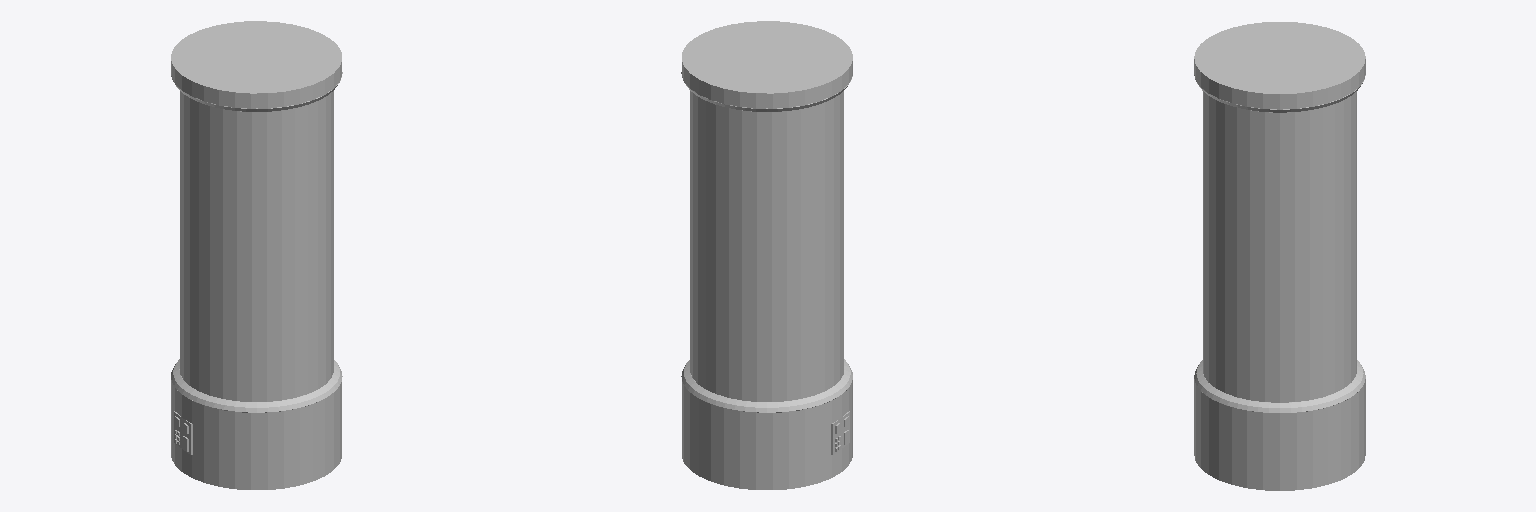
File: pillarBroken.obj
3 renders of one model, left to right at view 1: azimuth 30°, elevation 25°; view 2: azimuth 150°, elevation 25°; view 3: azimuth 270°, elevation 25°, orthographic.
Parts seen in each view (by area): view 1: Circle, Cylinder, Cylinder.002, Torus.001, Circle_cell.014, Circle_cell.055, Circle_cell.067, Circle_cell.089, Circle_cell.052, Circle_cell.049, Circle_cell.021, Circle_cell (+10 smaller); view 2: Circle, Cylinder, Cylinder.002, Circle_cell.093, Circle_cell.098, Circle_cell.015, Circle_cell.079, Torus.001, Circle_cell.040, Circle_cell.058, Circle_cell.035, Circle_cell.087 (+1 smaller); view 3: Circle, Cylinder, Cylinder.002, Circle_cell.090, Circle_cell.052, Torus.001, Circle_cell.049, Circle_cell.091, Circle_cell.093, Circle_cell.031, Circle_cell.065, Circle_cell.014 (+4 smaller).
Part boxes in pixels (left/top/right/bottom): Circle: left=180, top=92, right=333, bottom=401; Cylinder: left=171, top=380, right=341, bottom=489; Cylinder.002: left=171, top=21, right=341, bottom=108; Torus.001: left=171, top=359, right=342, bottom=412; Circle_cell.014: left=271, top=231, right=333, bottom=309; Circle_cell.055: left=244, top=305, right=284, bottom=350; Circle_cell.067: left=291, top=321, right=333, bottom=392; Circle_cell.089: left=245, top=348, right=289, bottom=388; Circle_cell.052: left=305, top=174, right=333, bottom=243; Circle_cell.049: left=302, top=121, right=333, bottom=186; Circle_cell.021: left=193, top=136, right=216, bottom=193; Circle_cell: left=241, top=272, right=269, bottom=317; Circle: left=690, top=91, right=843, bottom=401; Cylinder: left=682, top=380, right=852, bottom=489; Cylinder.002: left=682, top=21, right=852, bottom=108; Circle_cell.093: left=690, top=183, right=772, bottom=293; Circle_cell.098: left=690, top=176, right=808, bottom=233; Circle_cell.015: left=696, top=294, right=768, bottom=390; Circle_cell.079: left=691, top=106, right=747, bottom=184; Torus.001: left=681, top=359, right=852, bottom=412; Circle_cell.040: left=715, top=308, right=820, bottom=348; Circle_cell.058: left=696, top=272, right=798, bottom=313; Circle_cell.035: left=693, top=327, right=734, bottom=398; Circle_cell.087: left=773, top=227, right=806, bottom=272; Circle: left=1203, top=92, right=1356, bottom=402; Cylinder: left=1194, top=379, right=1365, bottom=490; Cylinder.002: left=1194, top=22, right=1365, bottom=109; Circle_cell.090: left=1228, top=299, right=1334, bottom=402; Circle_cell.052: left=1205, top=172, right=1308, bottom=262; Torus.001: left=1194, top=360, right=1365, bottom=412; Circle_cell.049: left=1203, top=124, right=1305, bottom=206; Circle_cell.091: left=1204, top=283, right=1307, bottom=345; Circle_cell.093: left=1296, top=190, right=1356, bottom=305; Circle_cell.031: left=1273, top=112, right=1299, bottom=198; Circle_cell.065: left=1243, top=109, right=1271, bottom=177; Circle_cell.014: left=1203, top=233, right=1294, bottom=284.
Size of the model in its own units: 2.02 by 5.1 by 2.